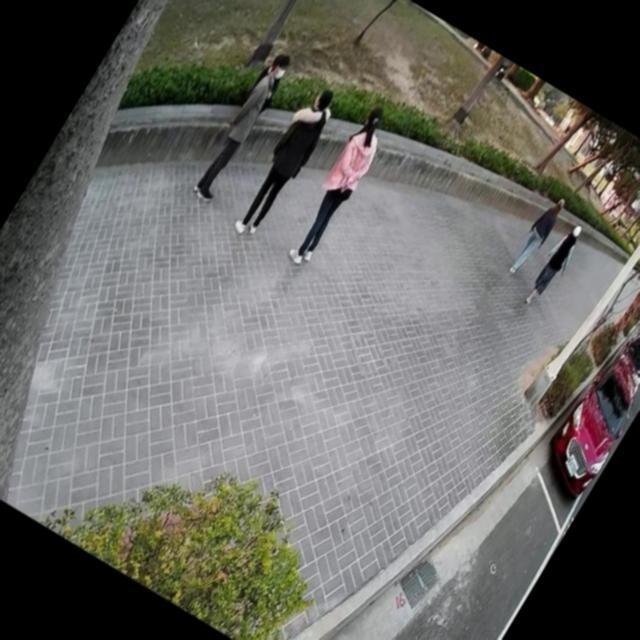person: (276, 95, 404, 274), (222, 74, 348, 248), (185, 42, 302, 208), (514, 209, 596, 317), (500, 184, 574, 285)
